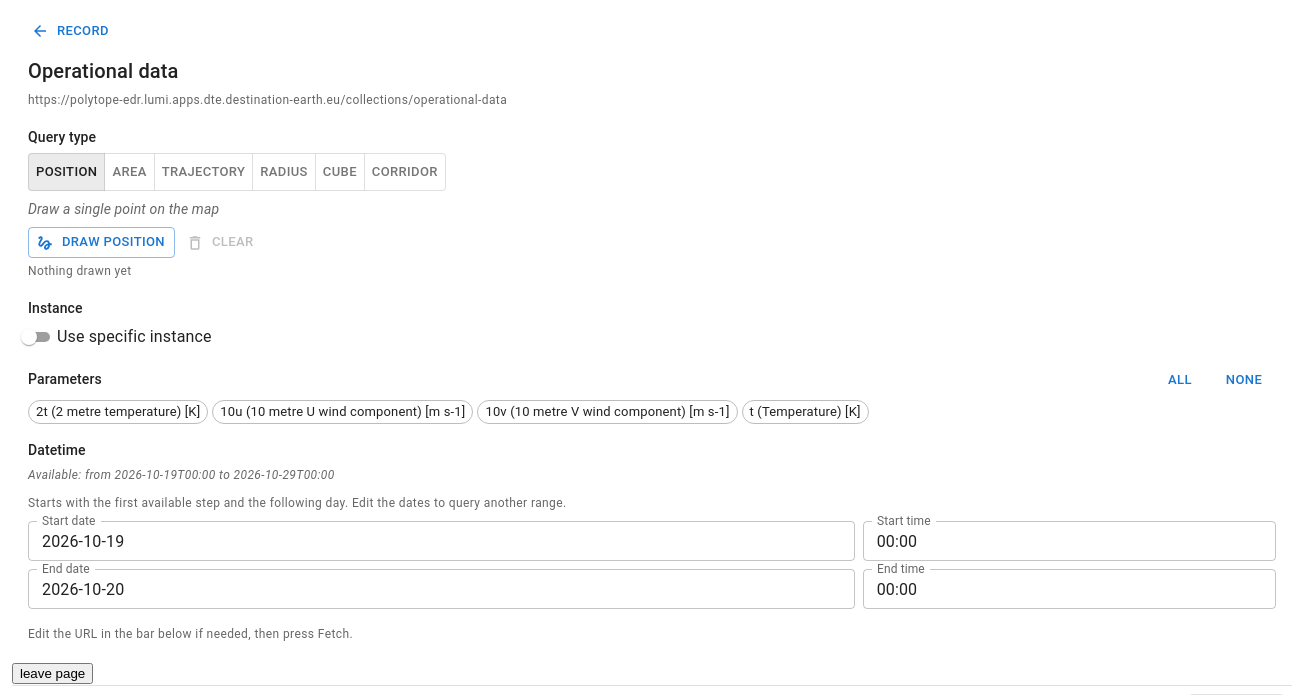
it: EDR page › switching instance re-applies the defaults, dropping edited dates
The image size is (1292, 695).
Replace the text in the field labelled "End date" with "2026-10-25": x=441, y=589 [28, 569, 855, 609]
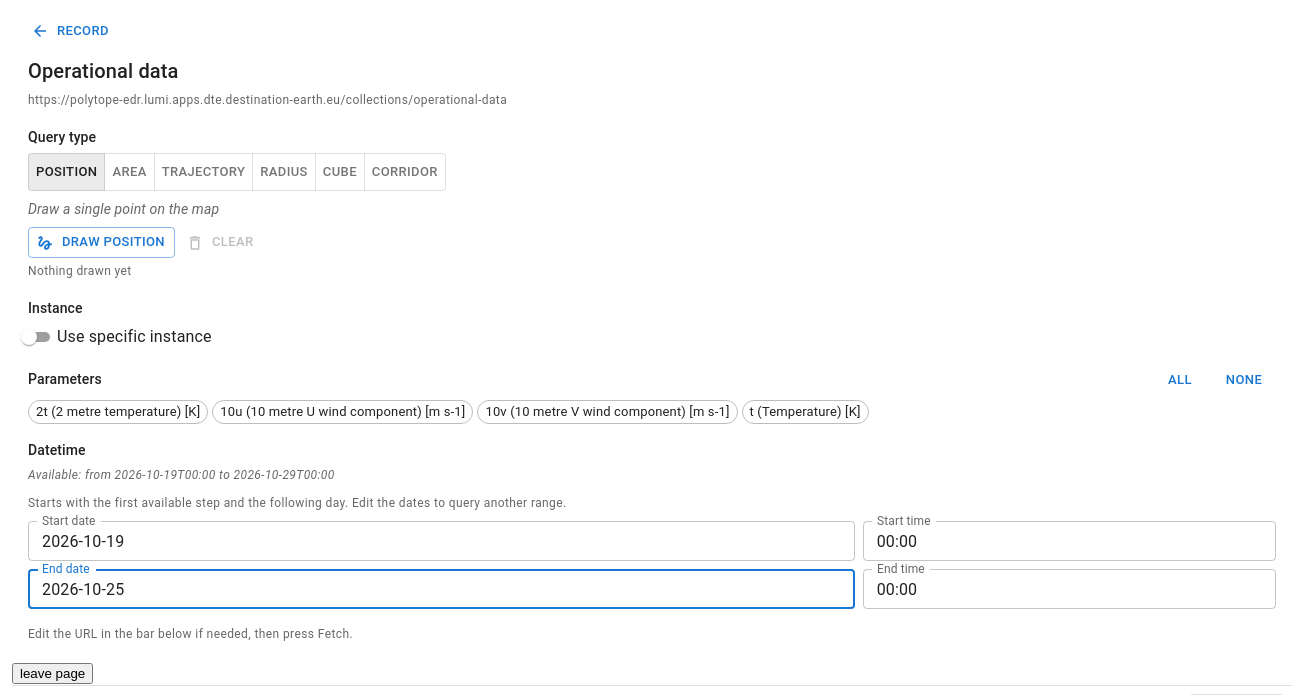
Click the checkbox labelled "Use specific instance": x=114, y=337 [17, 325, 212, 349]
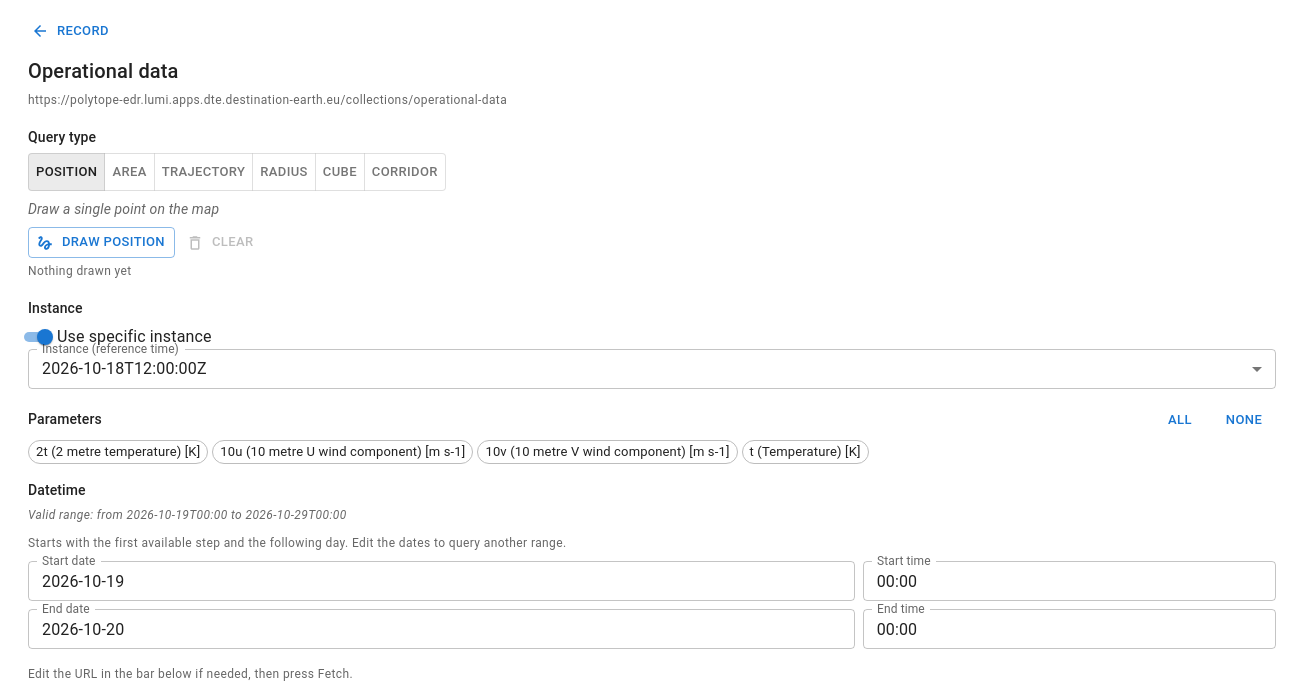
Check: the text "Valid range: from 2026-10-19T00:00 to 2026-10-29T00:00" is shown, box [28, 508, 347, 522]
Check: the field labelled "End date" holds "2026-10-20", box [28, 609, 855, 649]
